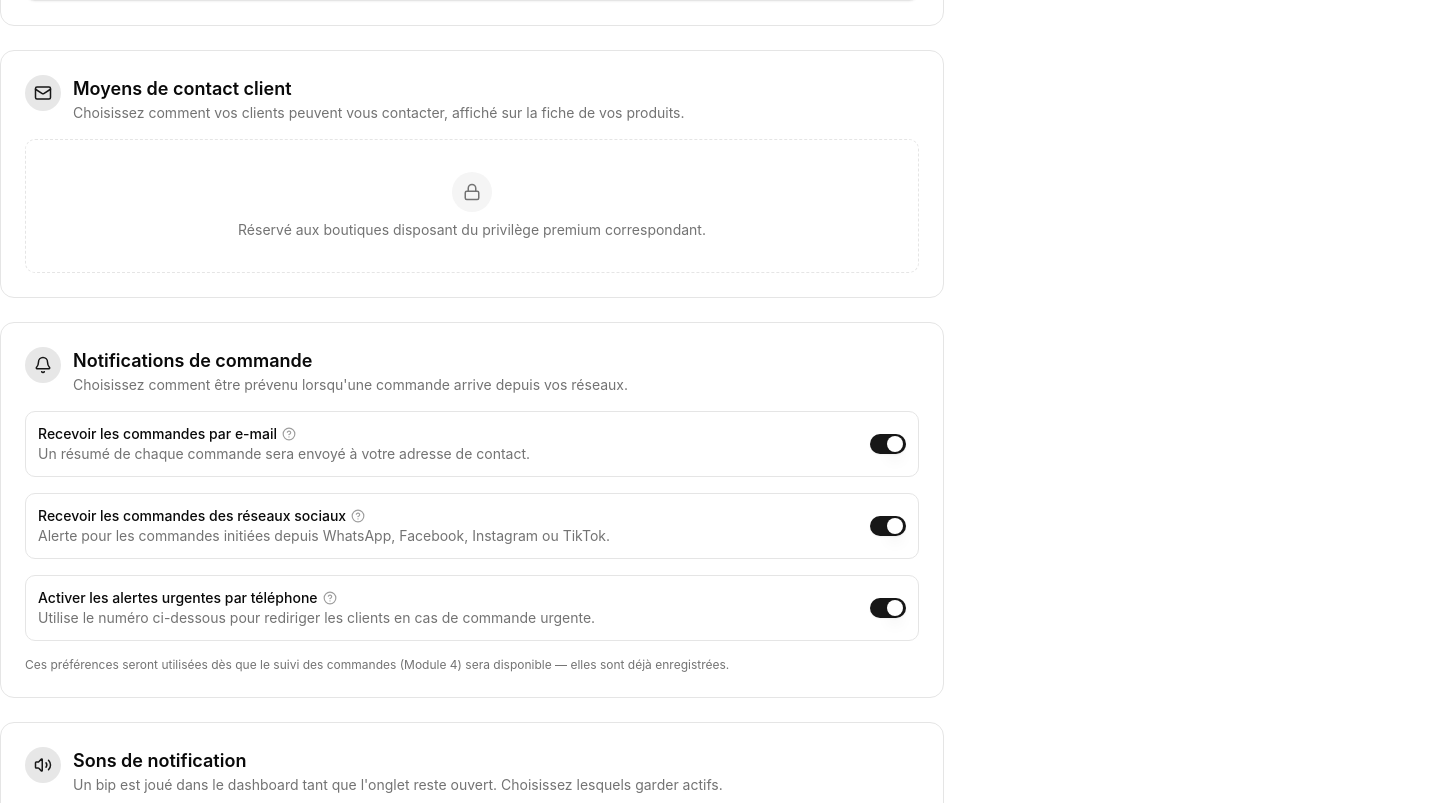
Test: ShopSettingsForm › submits the updated settings, including a toggled notification preference
This screenshot has width=1452, height=803.
(page scrolled)
Step 1. Click the switch named "Recevoir les commandes par e-mail" → (888, 444), box [870,434,906,454]
(page scrolled)
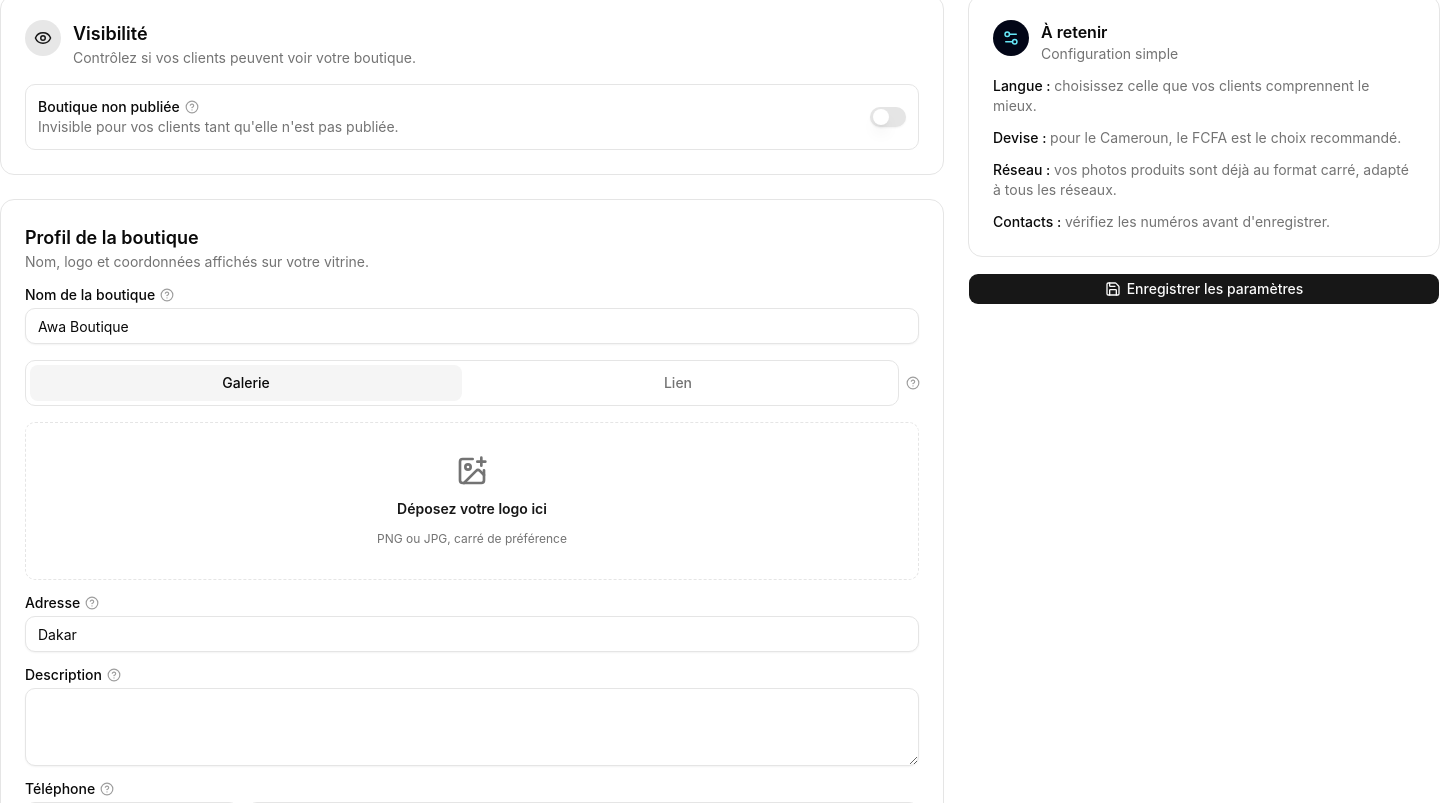
Step 2. Click the button "Enregistrer les paramètres" → (1204, 289), box [968,273,1440,305]
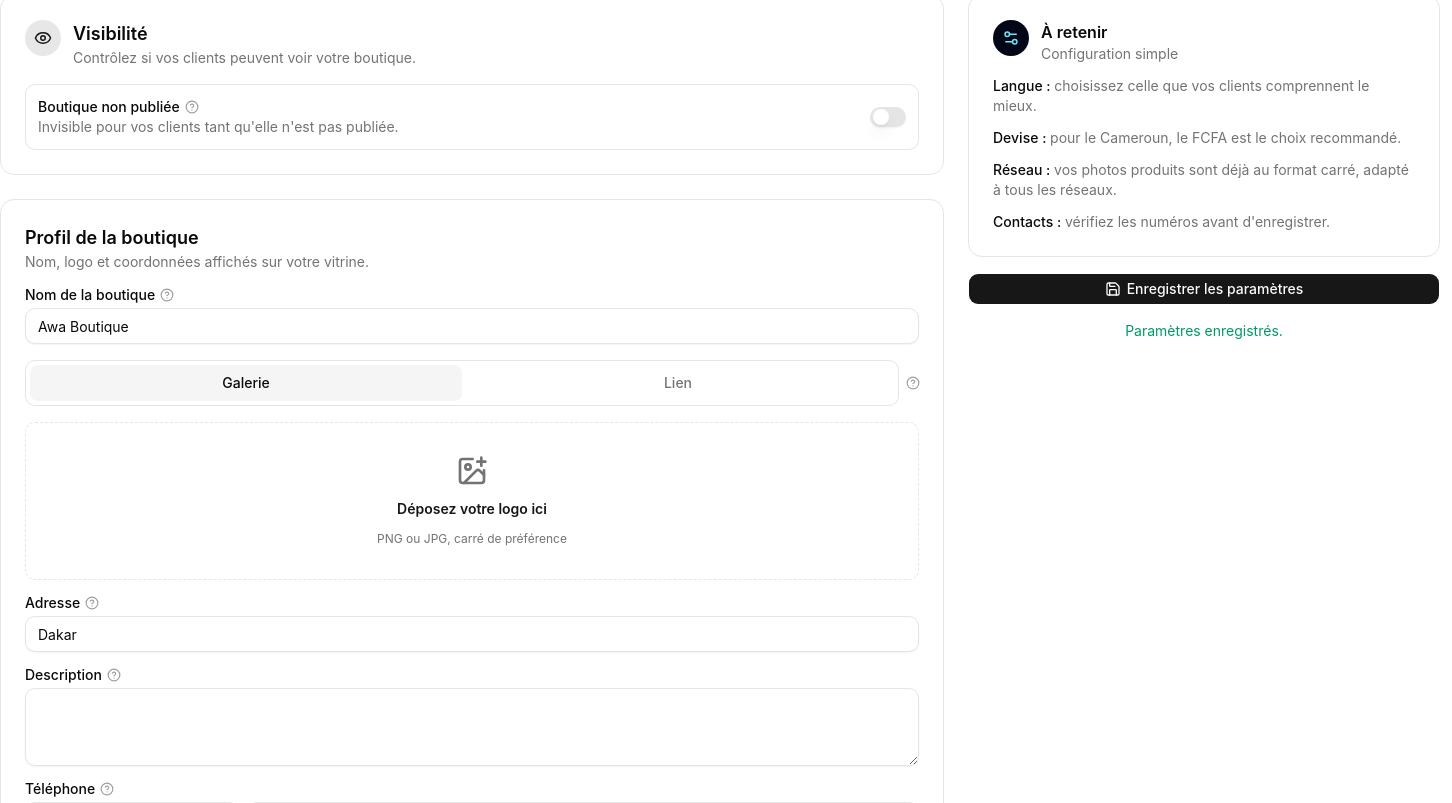
Result: the text "Paramètres enregistrés." is shown at [1125,322,1283,339]
